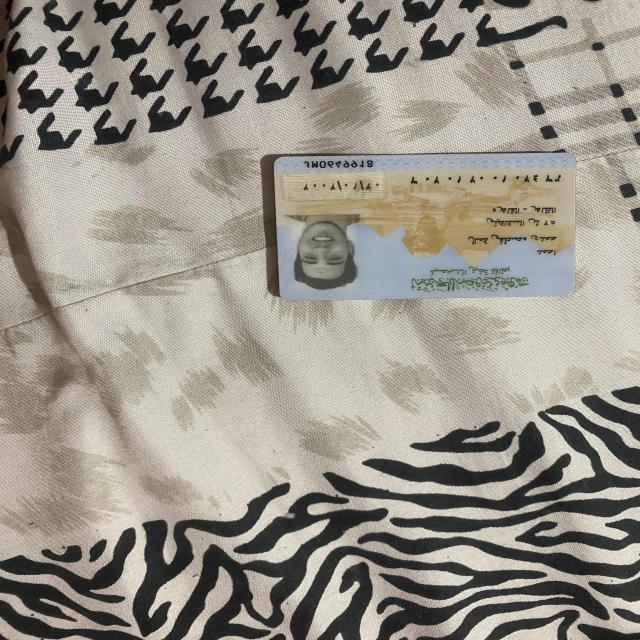id_card: (269, 150, 583, 305)
